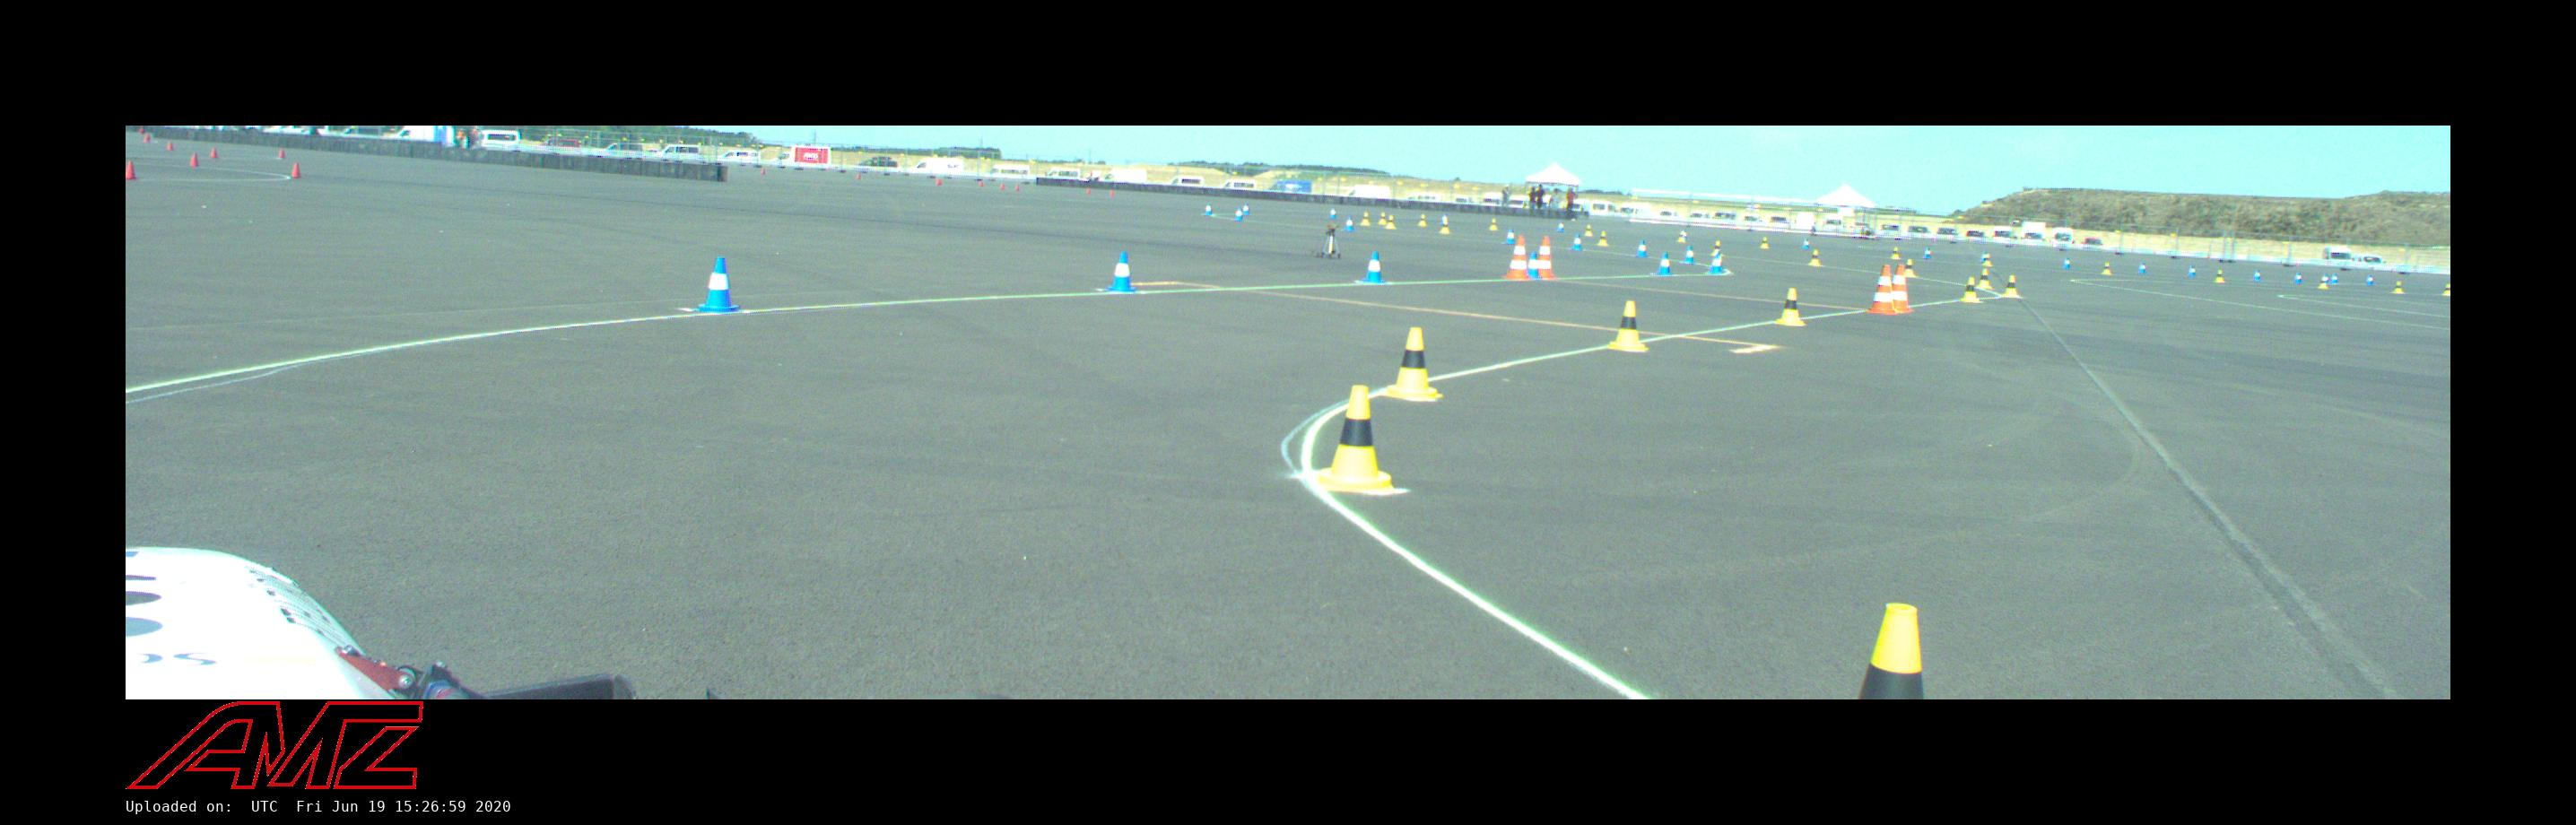blue_cone: (697, 258, 739, 312), (1107, 251, 1137, 293), (1362, 251, 1387, 284), (1654, 253, 1672, 276), (1528, 251, 1543, 279), (1712, 251, 1727, 271), (1709, 255, 1723, 273), (1635, 240, 1648, 258), (1571, 233, 1584, 251), (1682, 247, 1695, 263), (1503, 228, 1516, 243), (1234, 205, 1244, 222), (1344, 217, 1354, 232), (1240, 204, 1250, 217), (2062, 258, 2072, 270), (1204, 202, 1212, 215), (1922, 248, 1932, 258), (2366, 274, 2374, 286), (2252, 270, 2261, 281), (2321, 274, 2330, 286), (1802, 238, 1810, 248), (2188, 266, 2196, 276), (2139, 263, 2147, 273), (2295, 271, 2302, 283), (1981, 251, 1988, 263), (1557, 222, 1564, 232), (2331, 274, 2338, 284), (1441, 214, 1447, 224), (1681, 230, 1687, 240), (1331, 207, 1336, 219)
large_orange_cone: (1866, 266, 1897, 314), (1884, 263, 1912, 312), (1502, 237, 1529, 279), (1536, 237, 1554, 279)
orange_cone: (125, 161, 136, 179), (291, 163, 301, 176), (189, 154, 199, 166), (210, 146, 218, 158), (279, 148, 286, 158), (145, 133, 151, 141), (168, 143, 172, 150)
yellow_cone: (1319, 386, 1391, 491), (1855, 605, 1927, 698), (1388, 329, 1444, 398), (1607, 299, 1648, 352), (1774, 289, 1805, 325), (1876, 279, 1897, 314), (1960, 278, 1980, 302), (2003, 276, 2019, 297), (1976, 270, 1993, 289), (1904, 260, 1916, 278), (2213, 270, 2226, 283), (1597, 232, 1608, 247), (2101, 261, 2113, 276), (1809, 250, 1819, 266), (1360, 212, 1370, 227), (2392, 281, 2403, 293), (1710, 242, 1722, 253), (1891, 247, 1901, 260), (1387, 215, 1396, 228), (1439, 220, 1449, 233), (1760, 237, 1769, 248), (2318, 278, 2328, 289), (1983, 255, 1993, 266), (1378, 212, 1387, 225), (1419, 214, 1428, 227), (1488, 219, 1497, 230), (1585, 225, 1594, 237), (1677, 232, 1686, 243), (2443, 284, 2449, 296)
